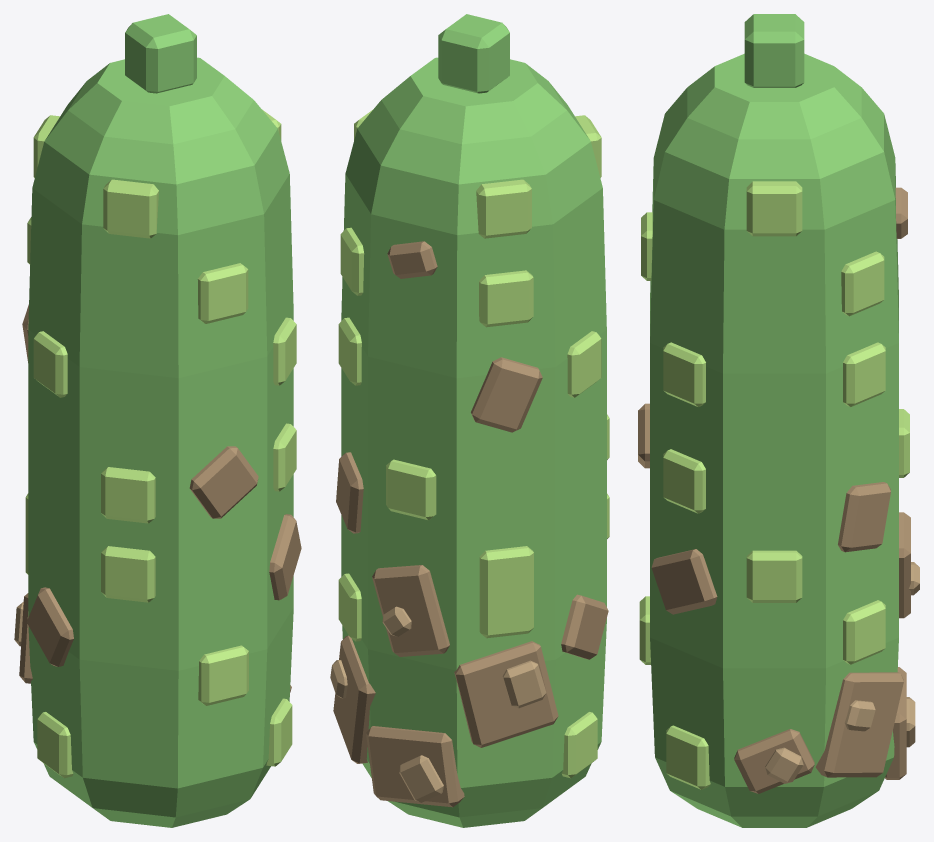
File: FarmMuddyCucumber.fbx
3 views of the same model, side by side, from view 1: azimuth 30°, elevation 25°; view 2: azimuth 150°, elevation 25°; view 3: azimuth 270°, elevation 25° (orthographic).
Visible parts, largest first — view 1: FarmMuddyCucumber.Body, FarmMuddyCucumber.Studs, FarmMuddyCucumber.Mud; view 2: FarmMuddyCucumber.Body, FarmMuddyCucumber.Mud, FarmMuddyCucumber.Studs, FarmMuddyCucumber.MudHighlights; view 3: FarmMuddyCucumber.Body, FarmMuddyCucumber.Studs, FarmMuddyCucumber.Mud, FarmMuddyCucumber.MudHighlights.
Boxes of the visible parts, bbox=[...] form: FarmMuddyCucumber.Body: bbox=[28, 14, 293, 827]; FarmMuddyCucumber.Studs: bbox=[25, 109, 296, 778]; FarmMuddyCucumber.Mud: bbox=[19, 304, 301, 692]; FarmMuddyCucumber.Body: bbox=[341, 14, 606, 827]; FarmMuddyCucumber.Mud: bbox=[333, 241, 608, 807]; FarmMuddyCucumber.Studs: bbox=[338, 110, 609, 778]; FarmMuddyCucumber.MudHighlights: bbox=[330, 606, 546, 802]; FarmMuddyCucumber.Body: bbox=[650, 14, 898, 827]; FarmMuddyCucumber.Studs: bbox=[639, 181, 909, 789]; FarmMuddyCucumber.Mud: bbox=[638, 187, 910, 793]; FarmMuddyCucumber.MudHighlights: bbox=[765, 562, 919, 783].
Bounding box in the file's own units: 1.4 × 4.3 × 1.42.
